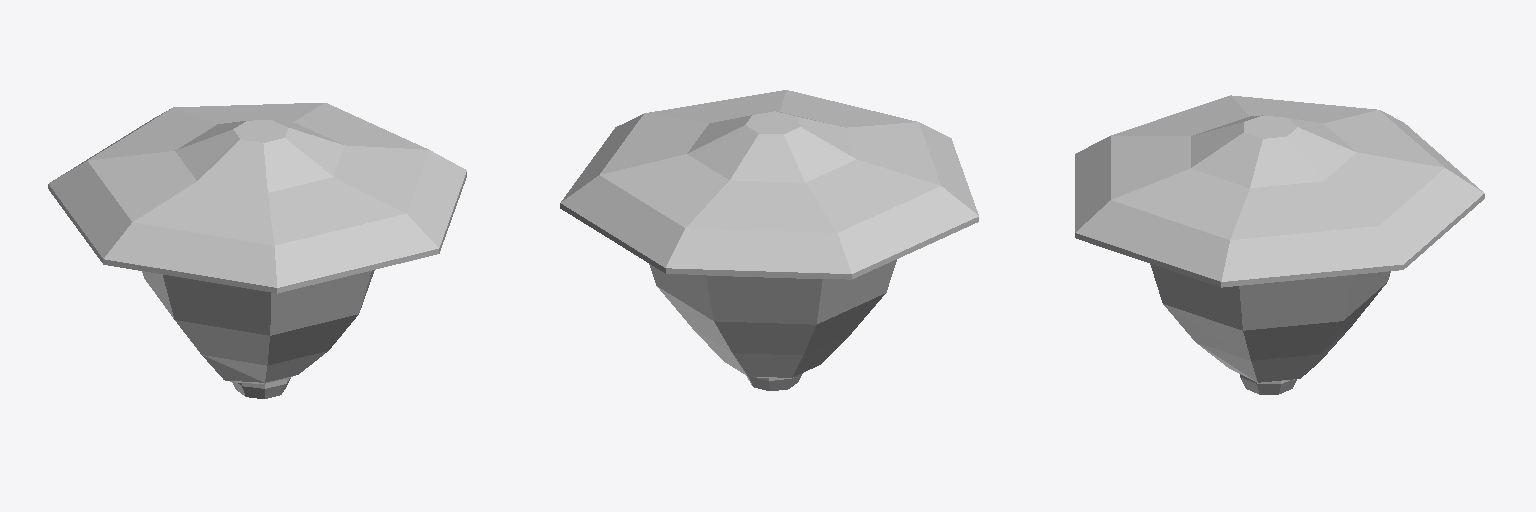
The model's file is pcity_nodes_plate_lamp.obj.
3 views of the same model, side by side, from view 1: azimuth 30°, elevation 25°; view 2: azimuth 150°, elevation 25°; view 3: azimuth 270°, elevation 25° (orthographic).
Parts seen in each view (by area): view 1: Sphere; view 2: Sphere; view 3: Sphere.
Part boxes in pixels (x1,y1,x2,y2): Sphere: (48,103,466,398); Sphere: (560,90,978,390); Sphere: (1075,95,1484,394).
Bounding box in the file's own units: 2.4 × 1.63 × 2.34.